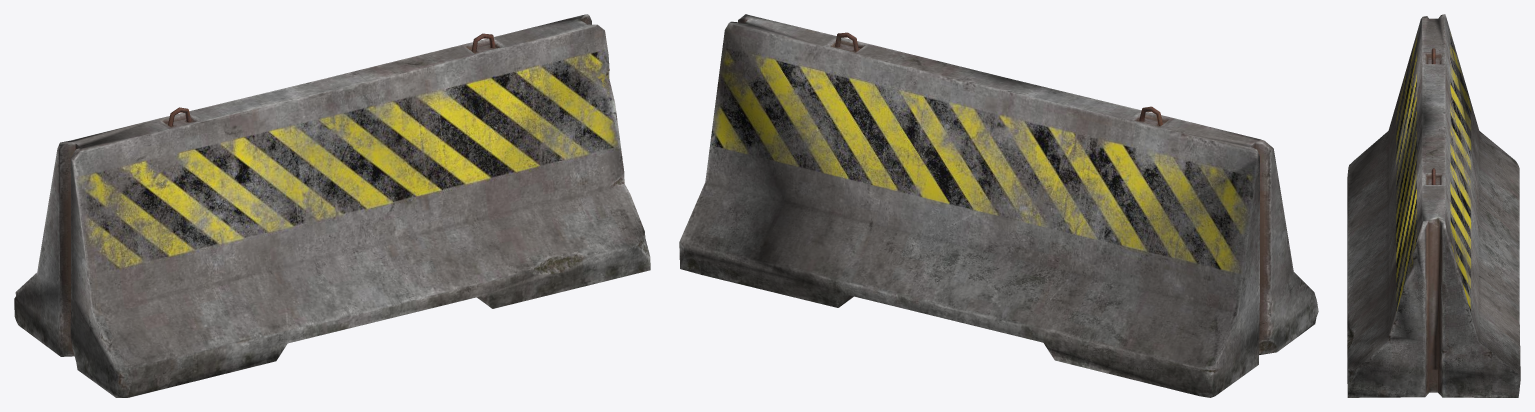
The model's file is jersey.glb.
3 renders of one model, left to right at view 1: azimuth 30°, elevation 25°; view 2: azimuth 150°, elevation 25°; view 3: azimuth 270°, elevation 25°, orthographic. The views are drawn at different scales.
Parts seen in each view (by area): view 1: LP1_w; view 2: LP1_w; view 3: LP1_w.
Boxes of the visible parts, x1,y1,x2,y2 form: LP1_w: (14, 14, 650, 397); LP1_w: (679, 14, 1318, 397); LP1_w: (1347, 14, 1520, 397).
Size of the model in its own units: 2 by 0.81 by 0.6933.
1 material, 1 textured.
